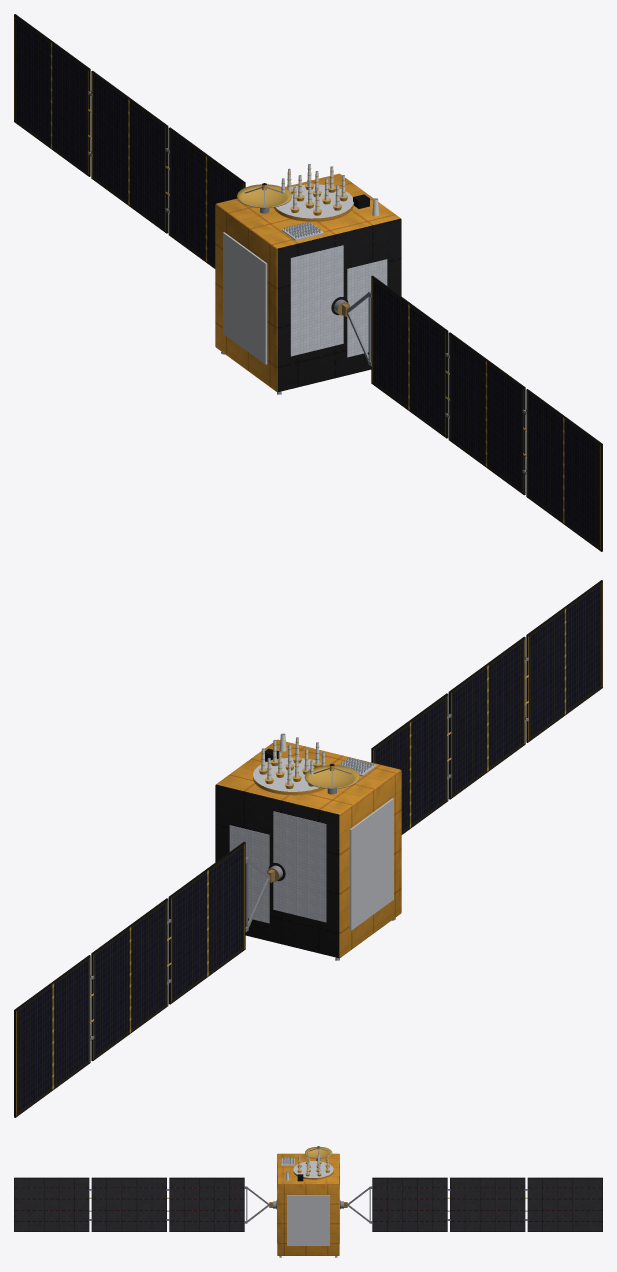
The model's file is bds2-igso.glb.
3 views of the same model, one above another, from view 1: azimuth 30°, elevation 25°; view 2: azimuth 150°, elevation 25°; view 3: azimuth 270°, elevation 25° (orthographic). The views are drawn at different scales.
Parts seen in each view (by area): view 1: bus, wing-Y, wing+Y, nadir_payload_deck; view 2: bus, wing+Y, wing-Y, nadir_payload_deck; view 3: wing+Y, wing-Y, bus, nadir_payload_deck.
Boxes of the visible parts, box(x1,y1,x2,y2) form: bus: box(215, 173, 401, 392); wing-Y: box(342, 275, 602, 551); wing+Y: box(14, 14, 245, 268); nadir_payload_deck: box(237, 164, 379, 240); bus: box(215, 739, 401, 958); wing+Y: box(14, 841, 274, 1117); wing-Y: box(371, 580, 602, 834); nadir_payload_deck: box(253, 733, 376, 795); wing+Y: box(344, 1177, 602, 1231); wing-Y: box(14, 1177, 272, 1231); bus: box(277, 1153, 339, 1255); nadir_payload_deck: box(281, 1146, 333, 1181).
Bounding box in the file's own units: 2.05 × 2.92 × 16.24.
17 materials, 5 textured.
